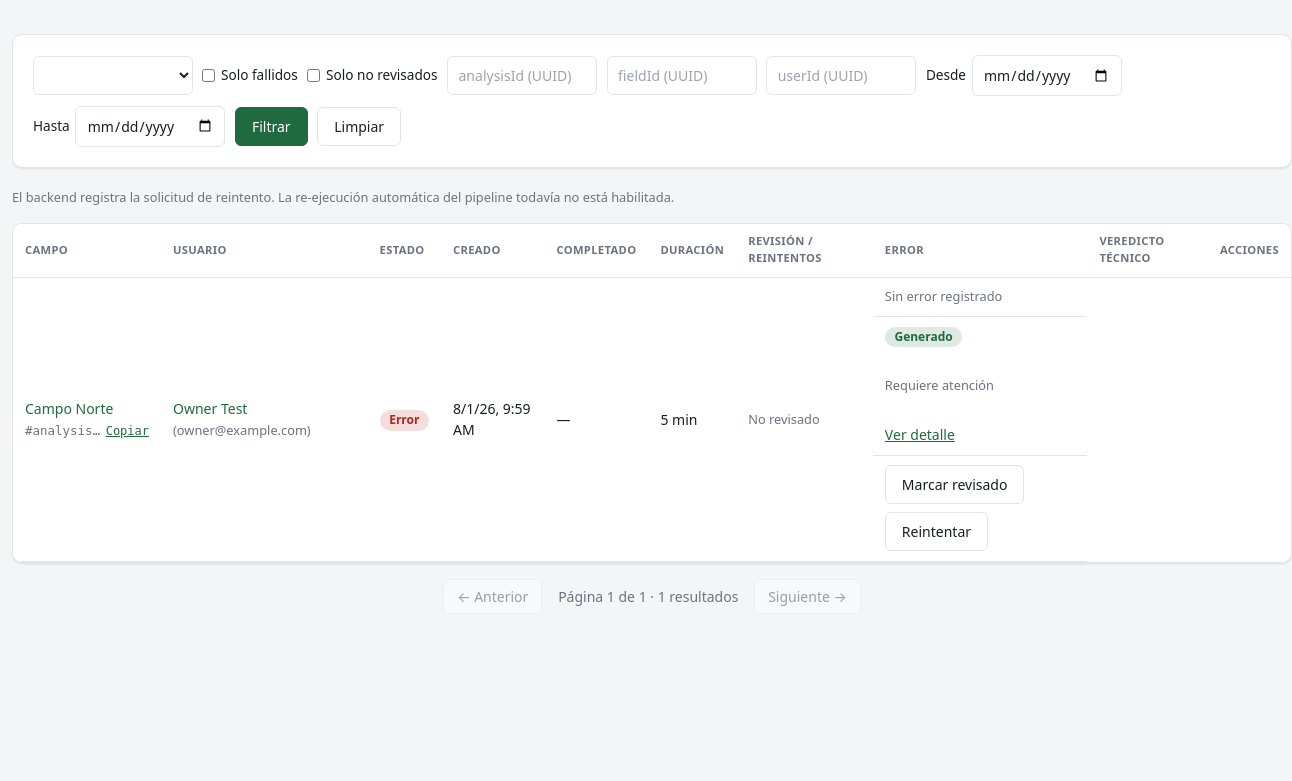
Test: AnalysisComponent › Veredicto técnico (PR 13A) › renderiza "Veredicto técnico" y su contenido cuando status=generated
Click the button "Ver detalle" at (920, 435), box [885,424,955,445]
(page scrolled)
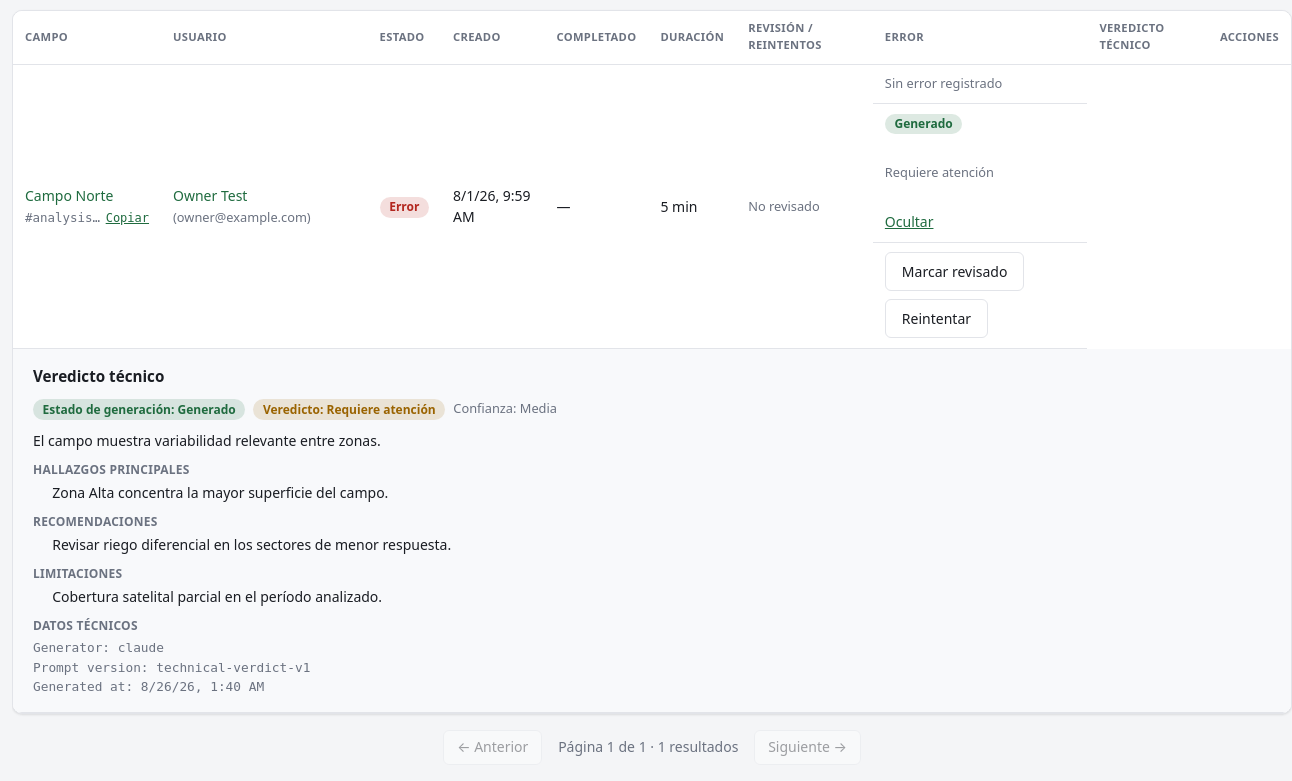
Expected: the element that starts with "Veredicto técnico" is shown, [33,366,557,694]
